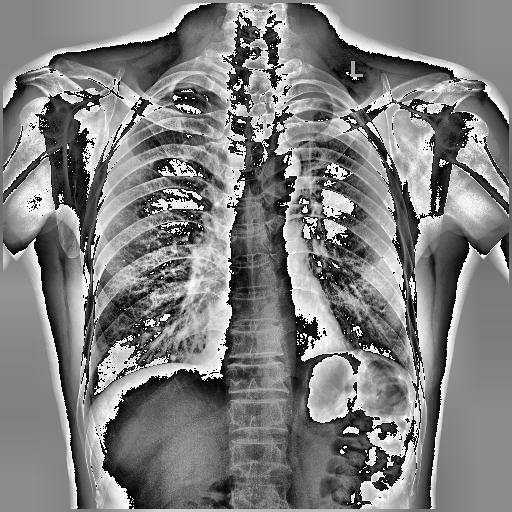0- Aortic enlargement: (264, 151, 300, 185)
11- Pleural thickening: (156, 74, 210, 98), (151, 79, 201, 99), (288, 86, 339, 104), (164, 80, 216, 92), (296, 91, 342, 103)
